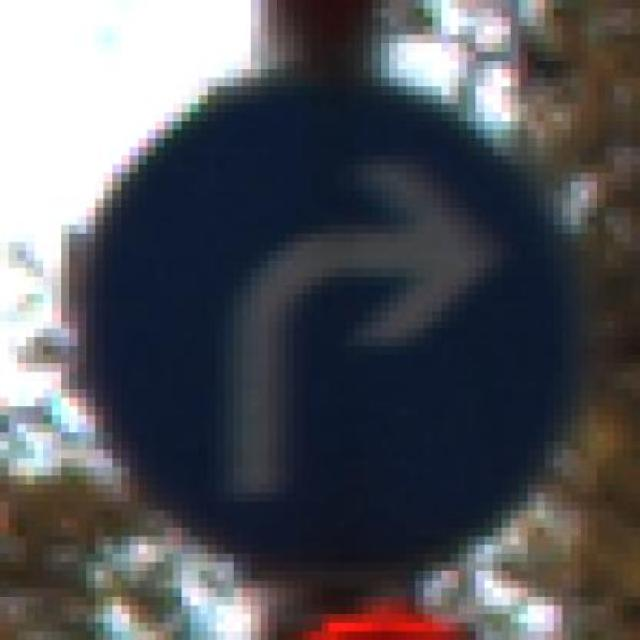Turn right ahead: (78, 69, 605, 588)
